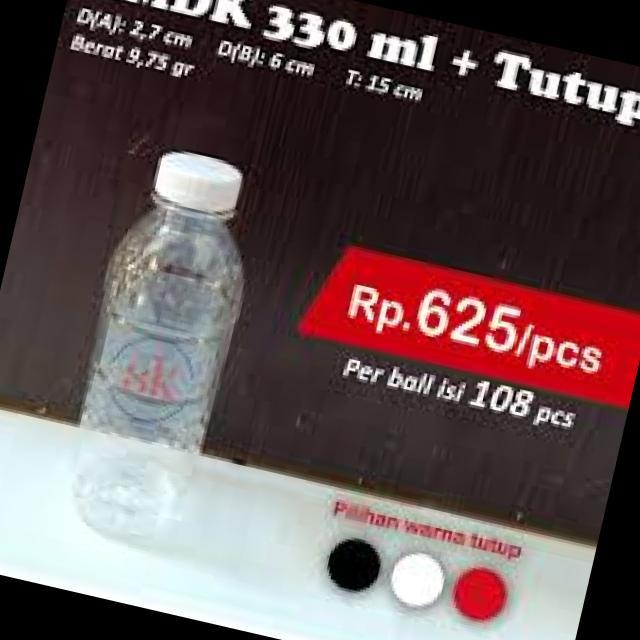good: (32, 138, 280, 560)
